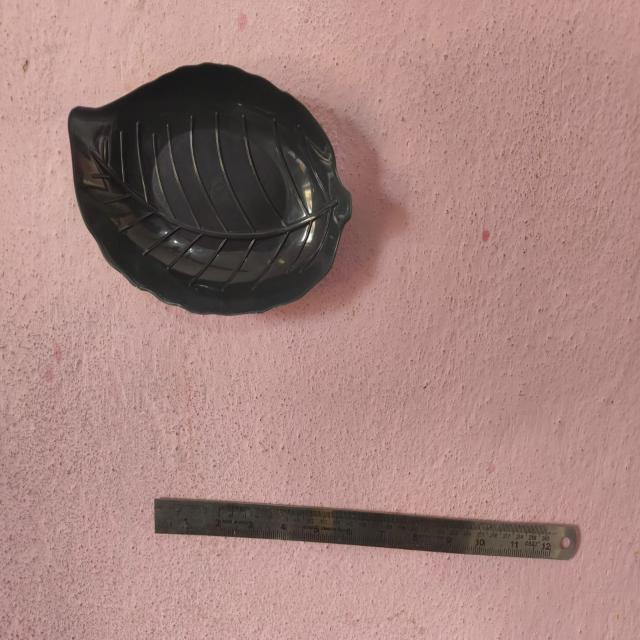pen: (69, 61, 356, 322)
plate: (147, 482, 588, 568)
